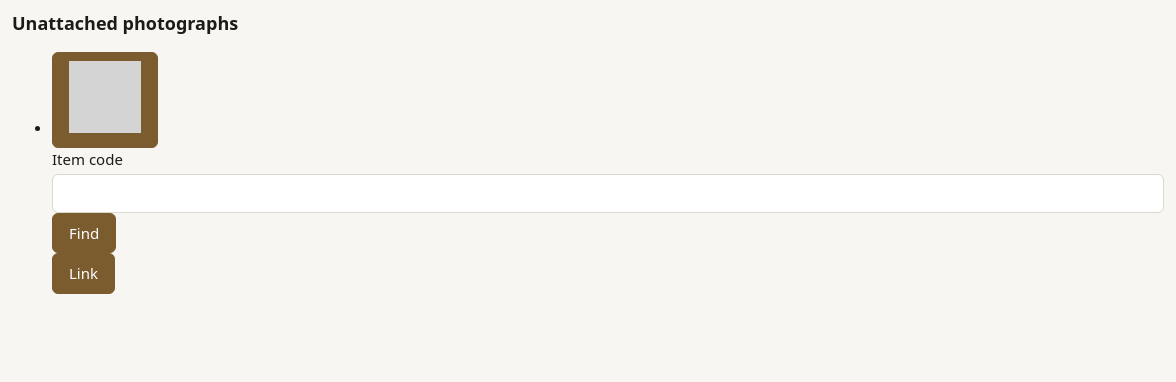
Test: Photos › Link with no item chosen says so and sends nothing
Click the button "Link". click: (84, 273)
box: [52,253,115,294]
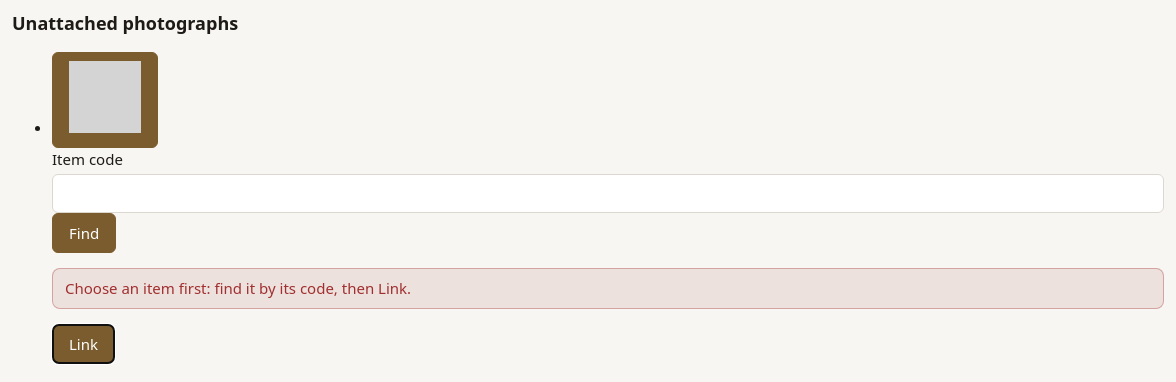
Now the text "Choose an item first: find it by its code, then Link." is shown, box [52,268,1164,308]
